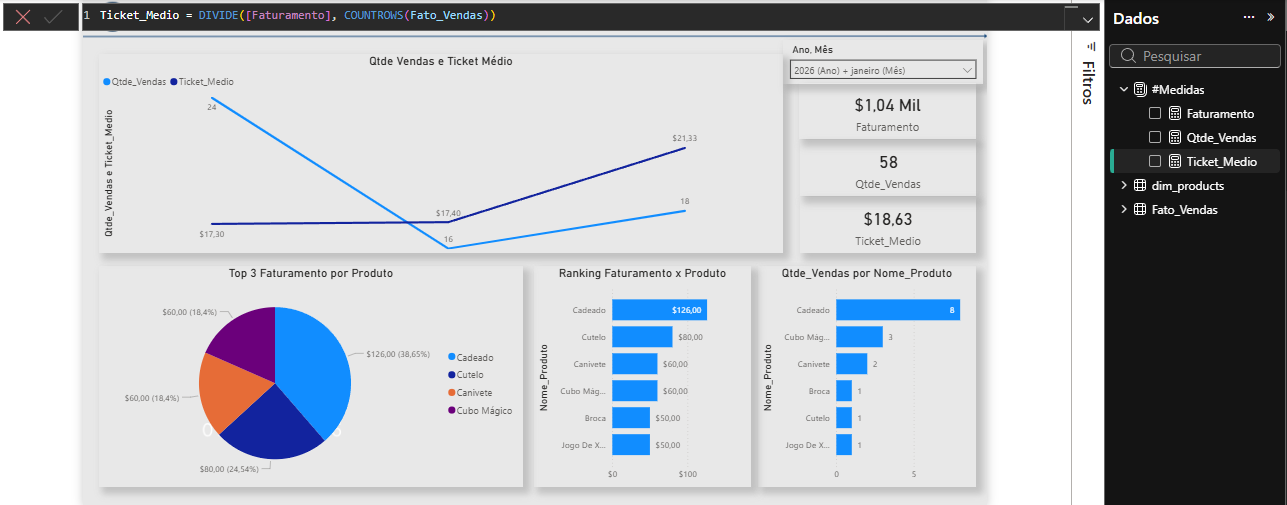

Layout of this report page (visuals, bound fields, positions):
{"tool":"powerbi","page":{"name":"Página 1","canvas":[1280,720],"ordinal":0},"visuals":[{"type":"card","fields":{"Values":["#Medidas.Total_Vendas"]},"box":[1014.2,119.2,251.4,80.4],"z":0},{"type":"card","fields":{"Values":["#Medidas.QTDE_Vendido"]},"box":[1015.7,199.7,250,80.4],"z":1000},{"type":"card","fields":{"Values":["#Medidas.Ticket_Medio"]},"box":[1015.7,280.1,250,80.4],"z":2000},{"type":"lineChart","title":"Qtde Vendas e Ticket Médio","fields":{"Category":["Fato_Vendas.Data.Variation.Hierarquia de datas.Mês","Fato_Vendas.Data.Variation.Hierarquia de datas.Dia"],"Y":["#Medidas.Qtde_Vendas","#Medidas.Ticket_Medio"]},"box":[22.7,78,969.4,282],"z":3000},{"type":"clusteredBarChart","title":"Ranking Faturamento x Produto","fields":{"Category":["dim_products.Nome_Produto"],"Y":["#Medidas.Faturamento"]},"box":[639.2,378.4,307.6,313.2],"z":4000},{"type":"textbox","box":[518.7,2.8,275,42.5],"z":5000},{"type":"pieChart","title":"Top 3 Faturamento por Produto","fields":{"Y":["#Medidas.Faturamento"],"Category":["dim_products.Nome_Produto"]},"box":[22.7,378.4,600.9,313.2],"z":6000},{"type":"clusteredBarChart","fields":{"Category":["dim_products.Nome_Produto"],"Y":["#Medidas.Qtde_Vendas"]},"box":[956.7,378.4,309,313.2],"z":7000},{"type":"slicer","fields":{"Values":["Fato_Vendas.Data.Variation.Hierarquia de datas.Ano","Fato_Vendas.Data.Variation.Hierarquia de datas.Mês"]},"box":[992.7,57.5,284.4,61.8],"z":8000}]}

Visuals, with their boxes on the page's 1280x720 design canvas (x1, y1, x2, y2). These are canvas units, not pixel positions in the 1287x505 screenshot, which may show the page scaled, cropped or inside an application window:
card - #Medidas.Total_Vendas: <region>1014, 119, 1266, 200</region>
card - #Medidas.QTDE_Vendido: <region>1016, 200, 1266, 280</region>
card - #Medidas.Ticket_Medio: <region>1016, 280, 1266, 360</region>
"Qtde Vendas e Ticket Médio" lineChart: <region>23, 78, 992, 360</region>
"Ranking Faturamento x Produto" clusteredBarChart: <region>639, 378, 947, 692</region>
textbox: <region>519, 3, 794, 45</region>
"Top 3 Faturamento por Produto" pieChart: <region>23, 378, 624, 692</region>
clusteredBarChart - dim_products.Nome_Produto x #Medidas.Qtde_Vendas: <region>957, 378, 1266, 692</region>
slicer - Fato_Vendas.Data.Variation.Hierarquia de datas.Ano x Fato_Vendas.Data.Variation.Hierarquia de datas.Mês: <region>993, 58, 1277, 119</region>
